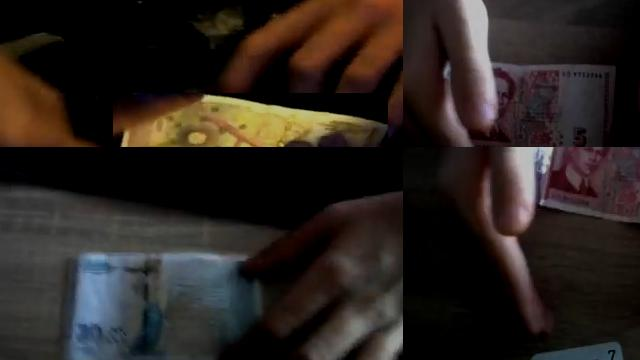10leva: (118, 93, 388, 147), (113, 93, 321, 147)
20leva: (58, 252, 263, 360)
5leva: (476, 62, 616, 147), (539, 147, 640, 226)
